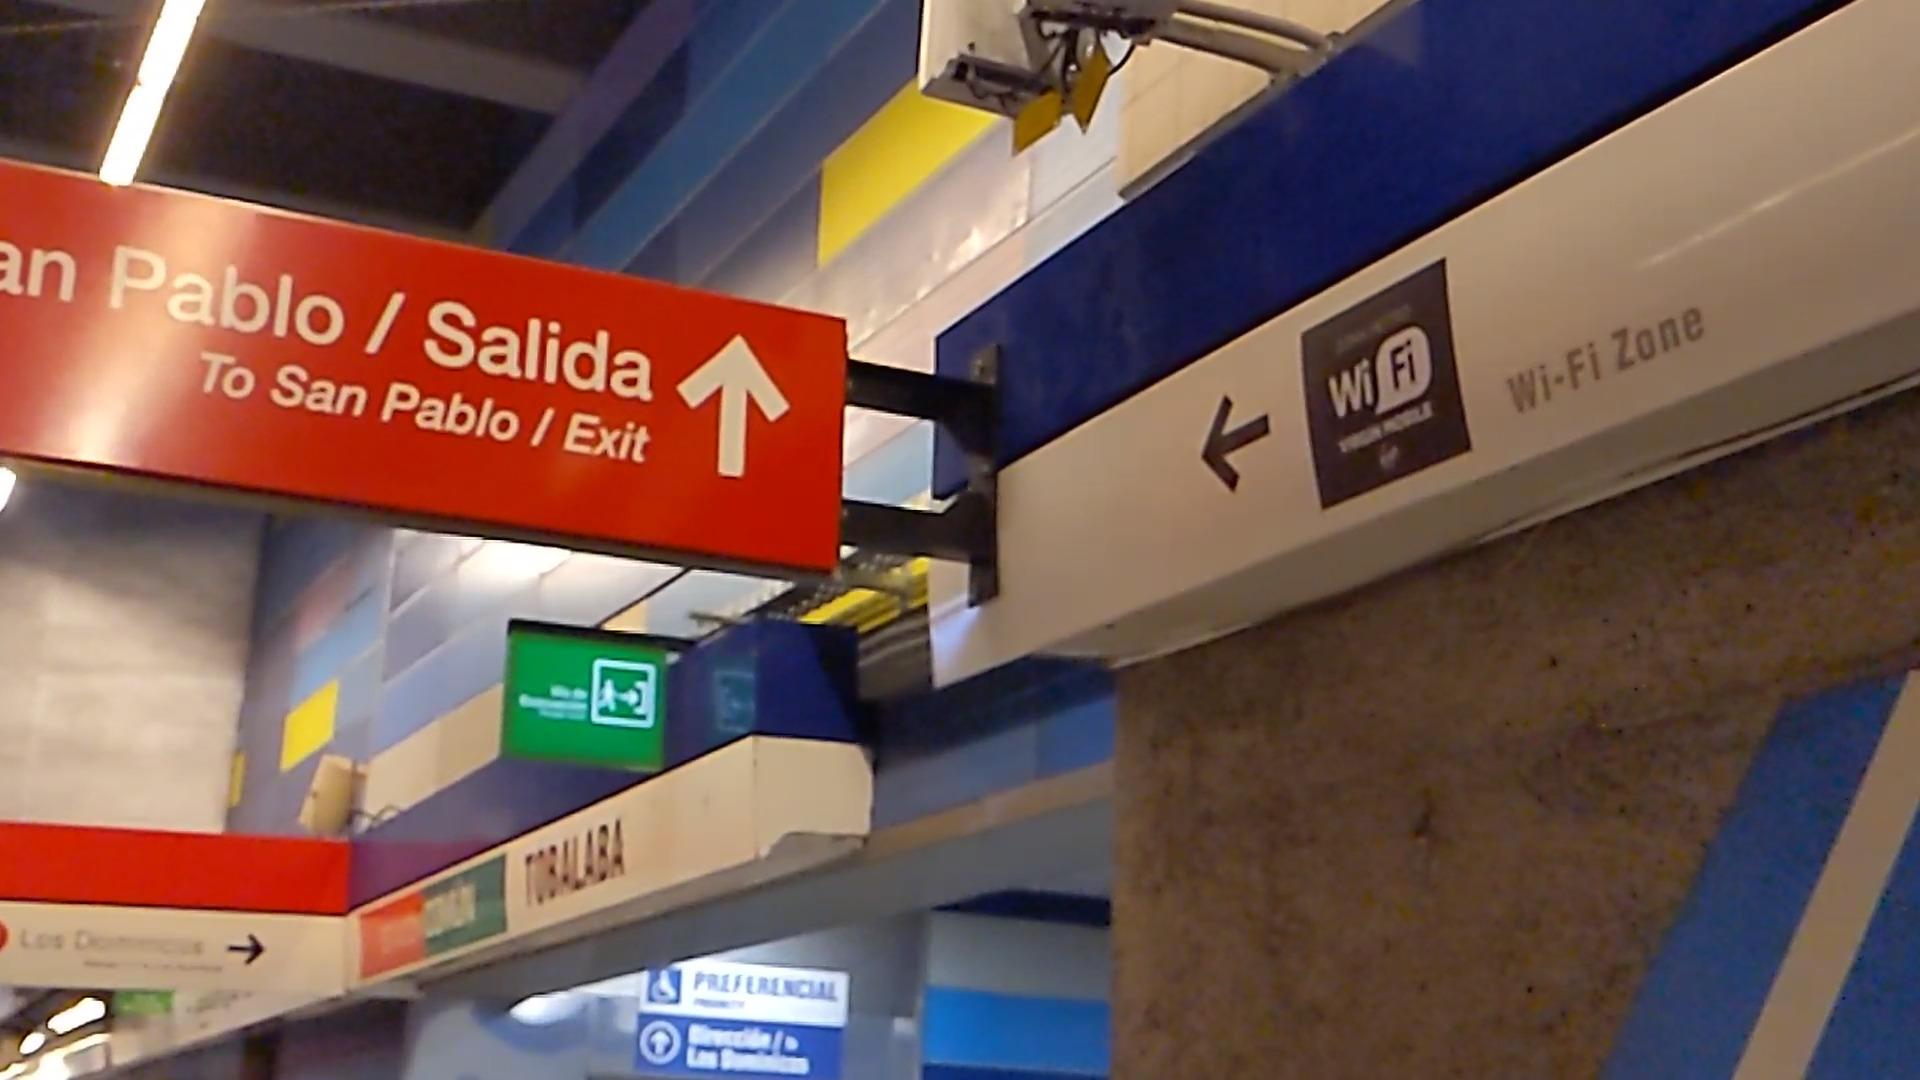handicapped symbol: (651, 969, 679, 1002)
left arrow: (1199, 393, 1275, 495)
right arrow: (224, 928, 268, 968)
up arrow: (675, 330, 795, 487)
